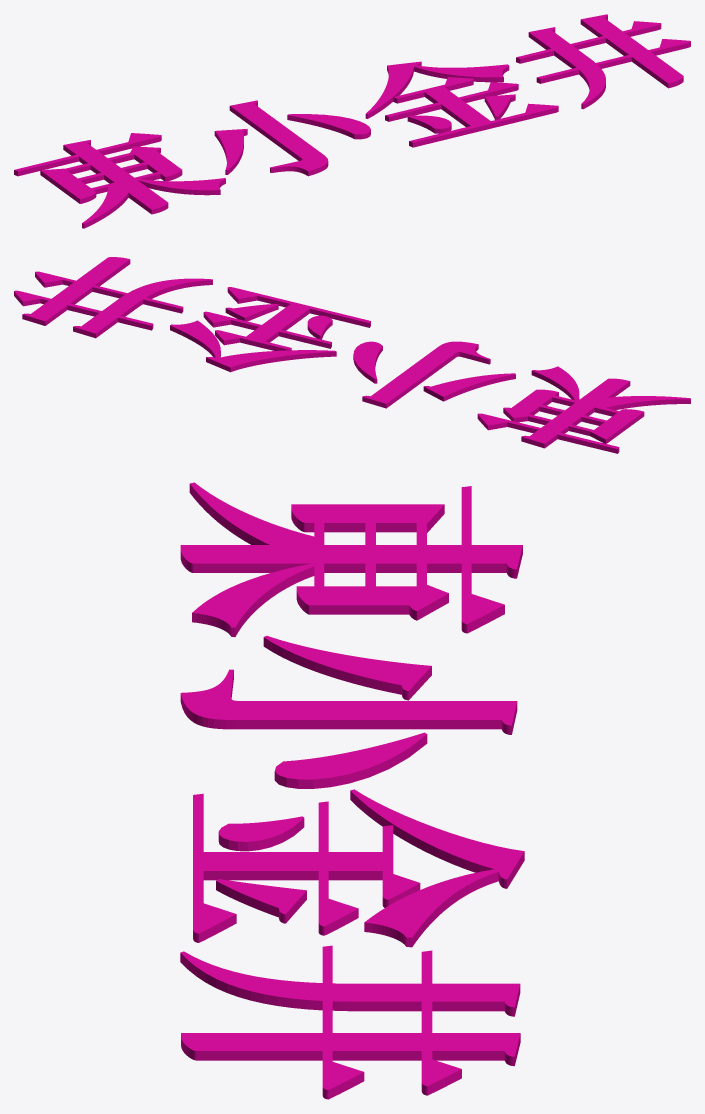
Rendered from higako.fbx.
3 renders of one model, top to bottom at view 1: azimuth 30°, elevation 25°; view 2: azimuth 150°, elevation 25°; view 3: azimuth 270°, elevation 25°, orthographic. The views are drawn at different scales.
Parts seen in each view (by area): view 1: Text; view 2: Text; view 3: Text.
Part boxes in pixels (x1,y1,x2,y2): Text: [14, 14, 690, 228]; Text: [14, 257, 690, 453]; Text: [180, 482, 524, 1099].
Bounding box in the file's own units: 138 × 1 × 33.1.
